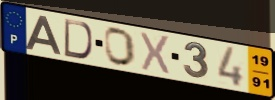3: (182, 41, 210, 81)
4: (216, 45, 246, 89)
A: (24, 14, 63, 57)
D: (63, 18, 95, 61)
O: (103, 27, 137, 68)
X: (139, 30, 171, 77)
